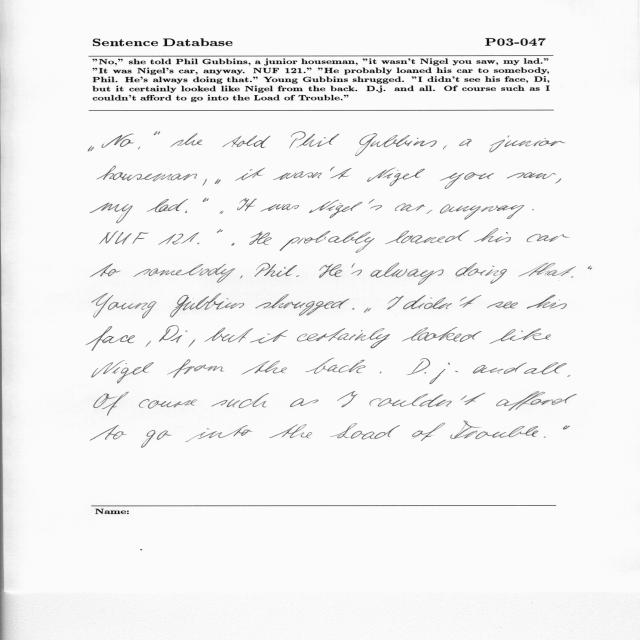word: (280, 231, 375, 253), (256, 294, 350, 316), (134, 264, 235, 283), (355, 133, 437, 156), (297, 328, 390, 348), (170, 294, 244, 318), (92, 294, 157, 319), (370, 393, 486, 407), (496, 391, 577, 411), (371, 263, 444, 285), (451, 421, 539, 439), (97, 166, 197, 181), (92, 360, 154, 383), (309, 199, 382, 218), (406, 358, 458, 384), (440, 204, 524, 220), (489, 136, 565, 153), (86, 326, 135, 351), (330, 423, 400, 440), (402, 327, 481, 342), (386, 230, 470, 244), (186, 425, 253, 442), (273, 166, 352, 180), (367, 168, 425, 187), (455, 263, 507, 284), (403, 295, 481, 309), (167, 359, 224, 378), (306, 358, 366, 374), (440, 172, 494, 189), (490, 329, 551, 344), (90, 203, 133, 224), (211, 393, 269, 408), (289, 132, 340, 149), (94, 392, 129, 416), (518, 263, 576, 277), (204, 328, 253, 343), (473, 362, 527, 374), (241, 361, 287, 375), (100, 231, 149, 244), (223, 135, 271, 148), (269, 424, 312, 438), (412, 423, 445, 441), (255, 263, 297, 277), (139, 399, 197, 409), (527, 295, 567, 309), (524, 362, 567, 375), (141, 430, 172, 448), (91, 425, 127, 440), (147, 199, 188, 212), (158, 232, 199, 245), (474, 229, 511, 243), (250, 330, 288, 343), (159, 326, 187, 343), (102, 134, 135, 148), (171, 133, 203, 147), (235, 168, 265, 181), (91, 264, 121, 277), (527, 234, 570, 242), (507, 172, 556, 179), (337, 392, 358, 408), (249, 231, 272, 245), (319, 264, 342, 278), (260, 204, 299, 212), (290, 398, 319, 407), (237, 198, 257, 211), (395, 204, 425, 212), (387, 296, 404, 310), (487, 302, 518, 309), (351, 263, 362, 276), (202, 179, 221, 186), (459, 139, 472, 146), (189, 339, 196, 347), (145, 341, 151, 347), (364, 308, 371, 313), (88, 146, 94, 151), (555, 179, 561, 184), (563, 426, 570, 430), (154, 132, 160, 136), (203, 198, 209, 202), (217, 229, 223, 233), (443, 145, 447, 150), (427, 210, 432, 214), (220, 210, 224, 214), (588, 266, 592, 270), (231, 243, 235, 246), (240, 275, 243, 279), (296, 275, 300, 277), (138, 147, 140, 150), (250, 169, 253, 171), (352, 308, 355, 310), (567, 375, 570, 377), (185, 211, 187, 213), (532, 209, 534, 211), (571, 276, 573, 278), (197, 243, 199, 244), (380, 372, 382, 373), (544, 437, 546, 438)
